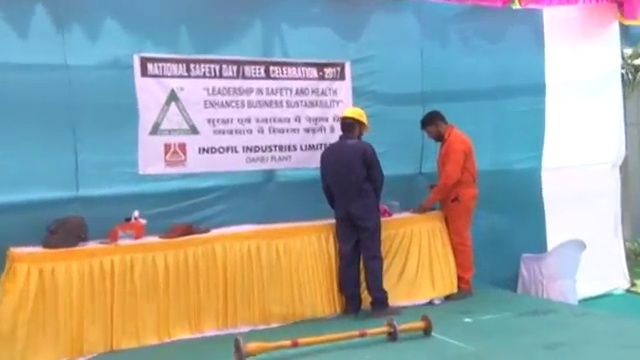helmet: (339, 104, 370, 130)
helmet_off: (420, 108, 452, 142)
helmet_on: (338, 104, 370, 143)
person: (322, 104, 401, 318), (417, 108, 477, 303)
